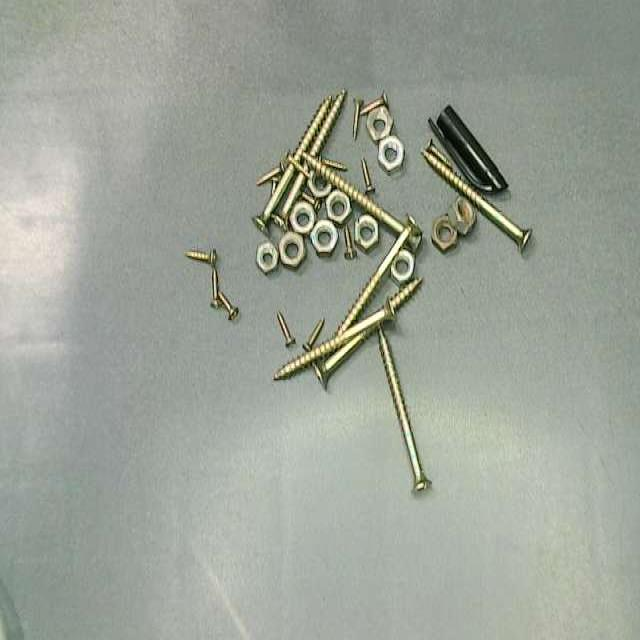Parafuso: (274, 279, 421, 379), (422, 142, 531, 251), (302, 152, 421, 249), (253, 96, 331, 234), (336, 218, 414, 335), (378, 327, 431, 491), (317, 330, 374, 389), (308, 90, 345, 157), (303, 319, 324, 351), (360, 91, 388, 115), (256, 162, 283, 186), (277, 311, 295, 346), (426, 139, 449, 165), (217, 291, 238, 319), (185, 250, 216, 267), (287, 155, 309, 177), (361, 158, 374, 193), (343, 226, 356, 259), (352, 98, 362, 139), (300, 192, 320, 211), (211, 266, 220, 307), (319, 158, 346, 170)
Porca: (448, 198, 475, 235), (279, 231, 305, 269), (378, 136, 403, 173), (432, 216, 457, 253), (311, 220, 337, 255), (326, 190, 351, 226), (390, 248, 414, 285), (367, 107, 392, 142), (355, 215, 378, 251), (289, 202, 314, 234), (256, 242, 278, 274), (309, 171, 331, 198)
